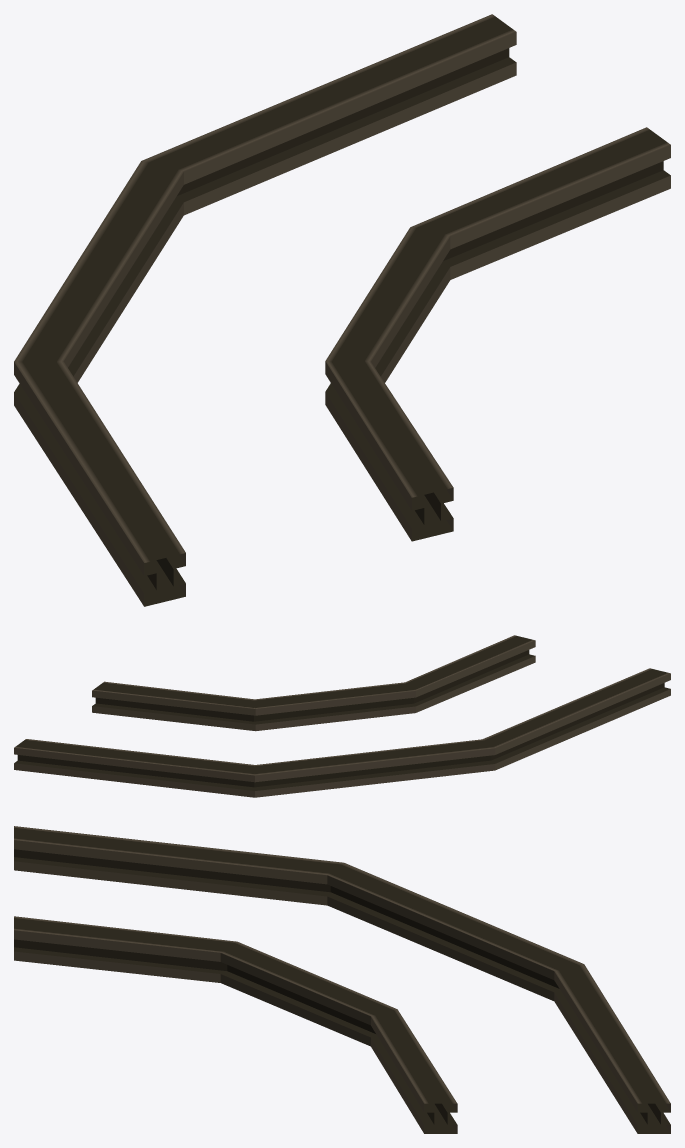
Rendered from RoadCurve.fbx.
3 views of the same model, one above another, from view 1: azimuth 30°, elevation 25°; view 2: azimuth 150°, elevation 25°; view 3: azimuth 270°, elevation 25° (orthographic). The views are drawn at different scales.
Visible parts, largest first — view 1: Road02; view 2: Road02; view 3: Road02.
Part boxes in pixels (left/top/right/bottom): Road02: left=14, top=14, right=670, bottom=606; Road02: left=14, top=635, right=670, bottom=797; Road02: left=14, top=826, right=670, bottom=1133.
Size of the model in its own units: 616 by 31.25 by 616.
